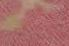plaque psoriasis: (0, 0, 69, 46), (0, 0, 22, 33), (3, 0, 69, 4)
